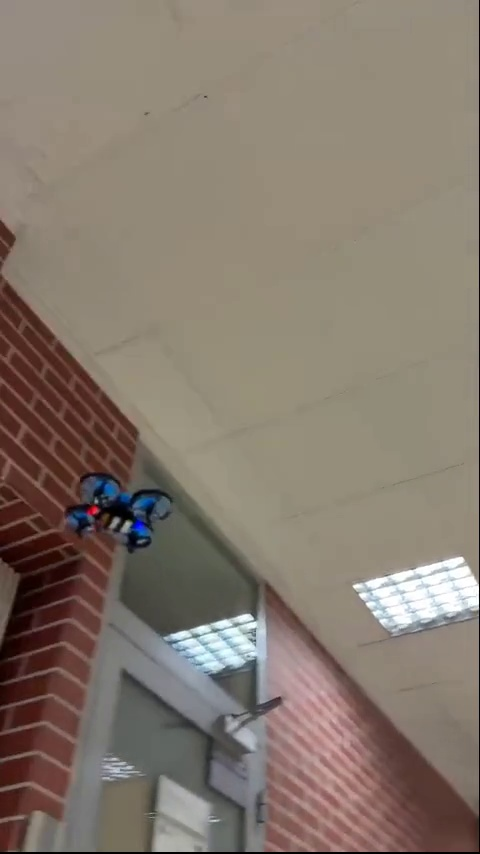drone: (63, 469, 170, 553)
